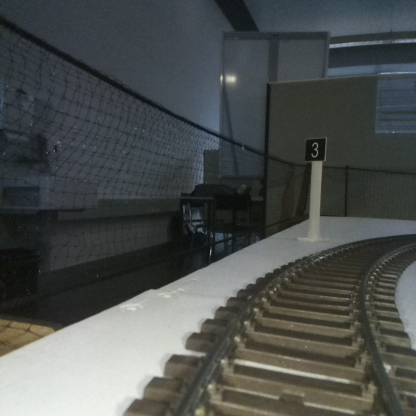black-info-3: (305, 139, 325, 239)
